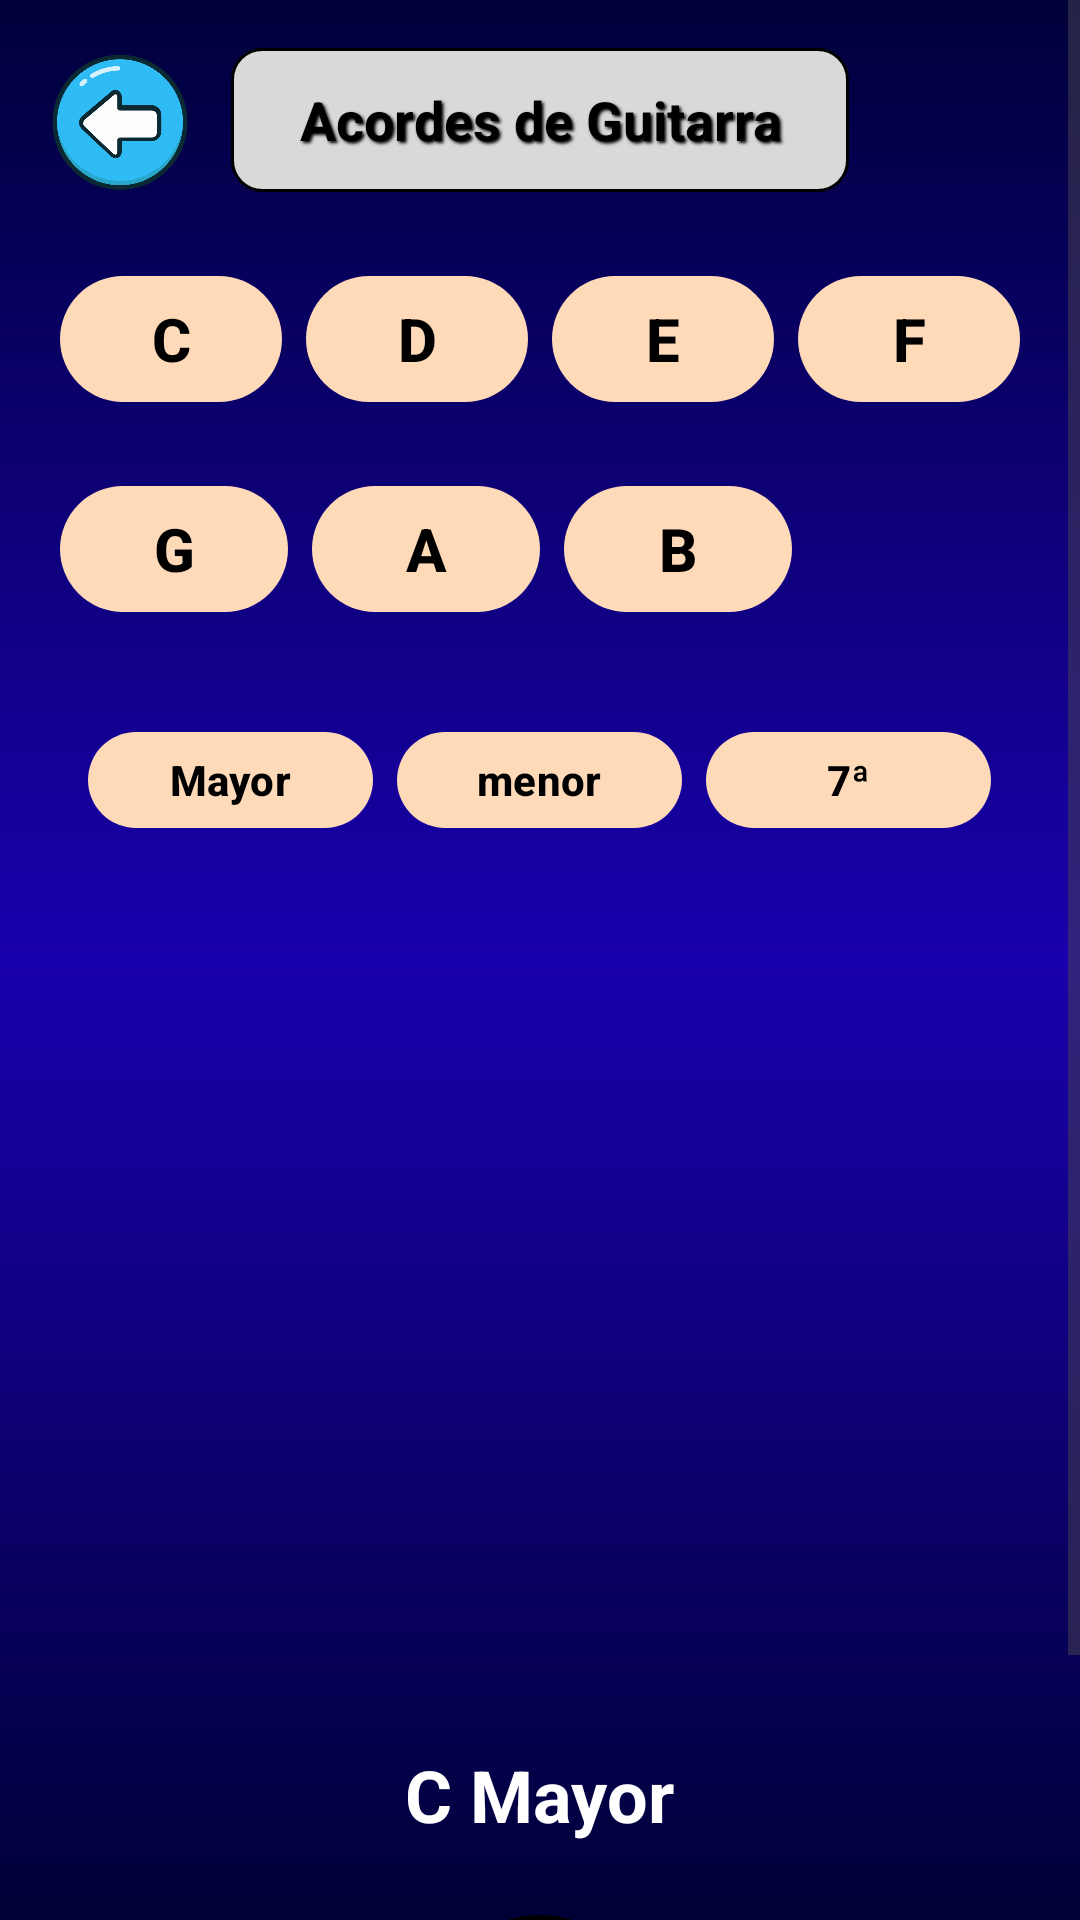

Named icons in this screenshot (1080x1920) and their centers, point (x, y):
arrow regresar: point (120, 122)
